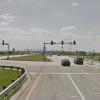Traffic light: (47, 34, 79, 49)
